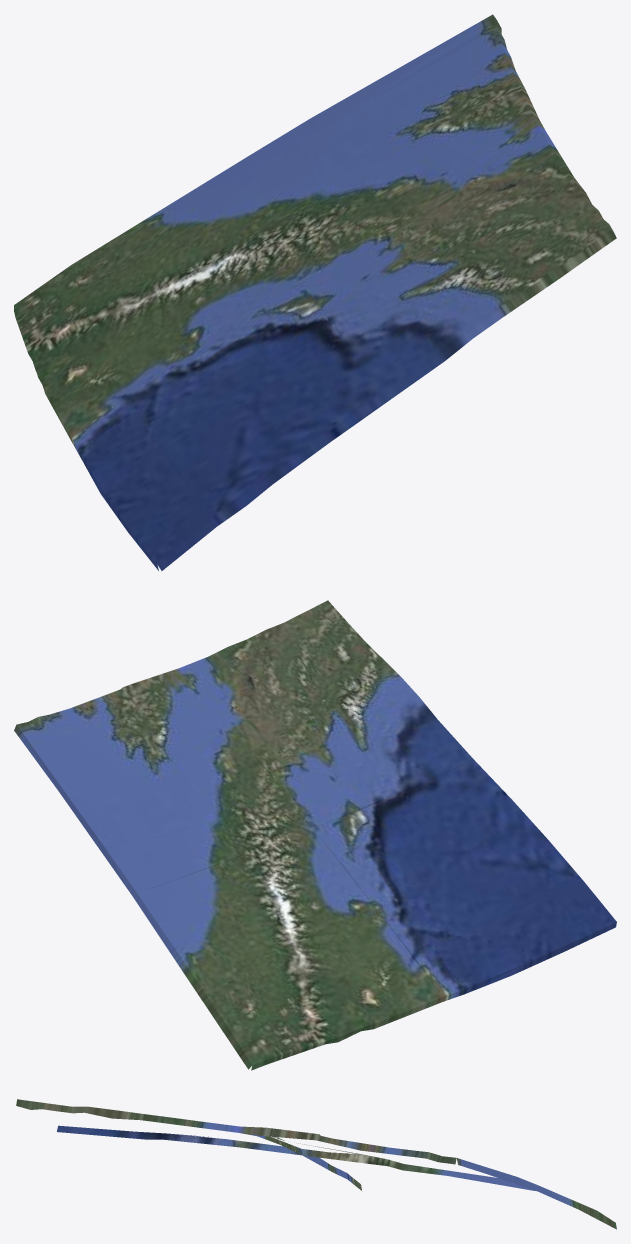
The picture shows the model from 3 angles, top to bottom: view 1: azimuth 30°, elevation 25°; view 2: azimuth 150°, elevation 25°; view 3: azimuth 270°, elevation 25°; orthographic projection. The views are drawn at different scales.
Size of the model in its own units: 703313 by 338677 by 778418.
1 material, 1 textured.
